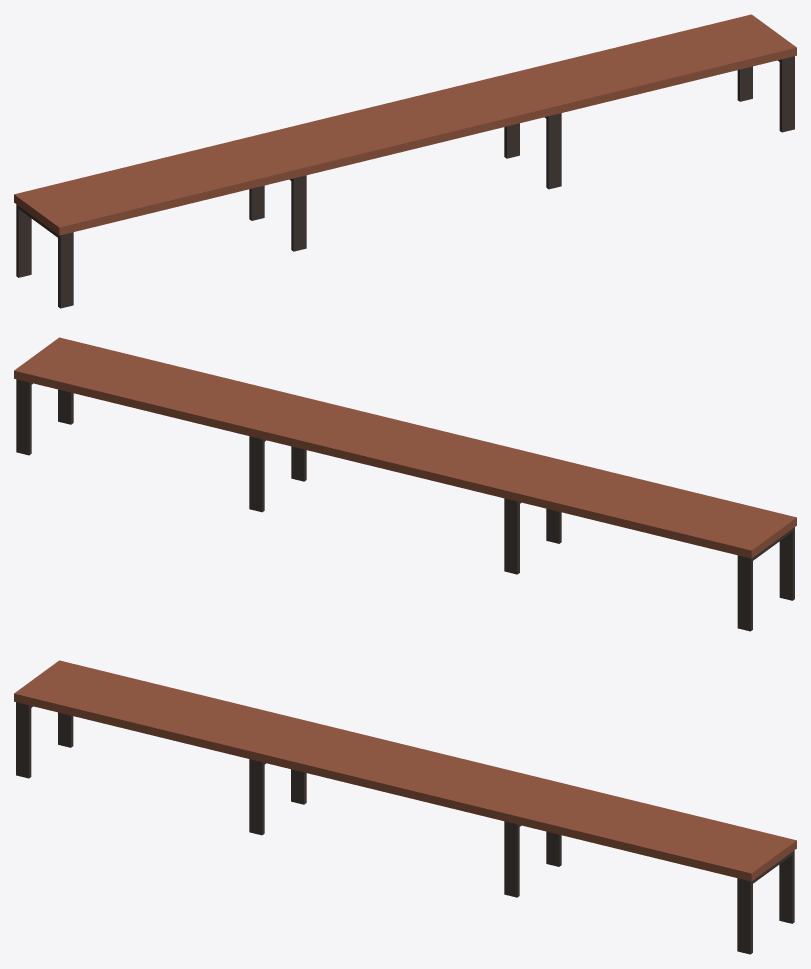
File: BingoRoomTable.fbx
The picture shows the model from 3 angles, top to bottom: view 1: azimuth 30°, elevation 25°; view 2: azimuth 150°, elevation 25°; view 3: azimuth 330°, elevation 25°; orthographic projection.
Visible parts, largest first — view 1: BingoTable; view 2: BingoTable; view 3: BingoTable.
Boxes of the visible parts, left/top/right/bottom form: BingoTable: left=14, top=14, right=796, bottom=308; BingoTable: left=14, top=337, right=796, bottom=631; BingoTable: left=14, top=660, right=796, bottom=954.
Bounding box in the file's own units: 661 × 70.01 × 70.38.
Materials: 1 (1 with a texture image).
